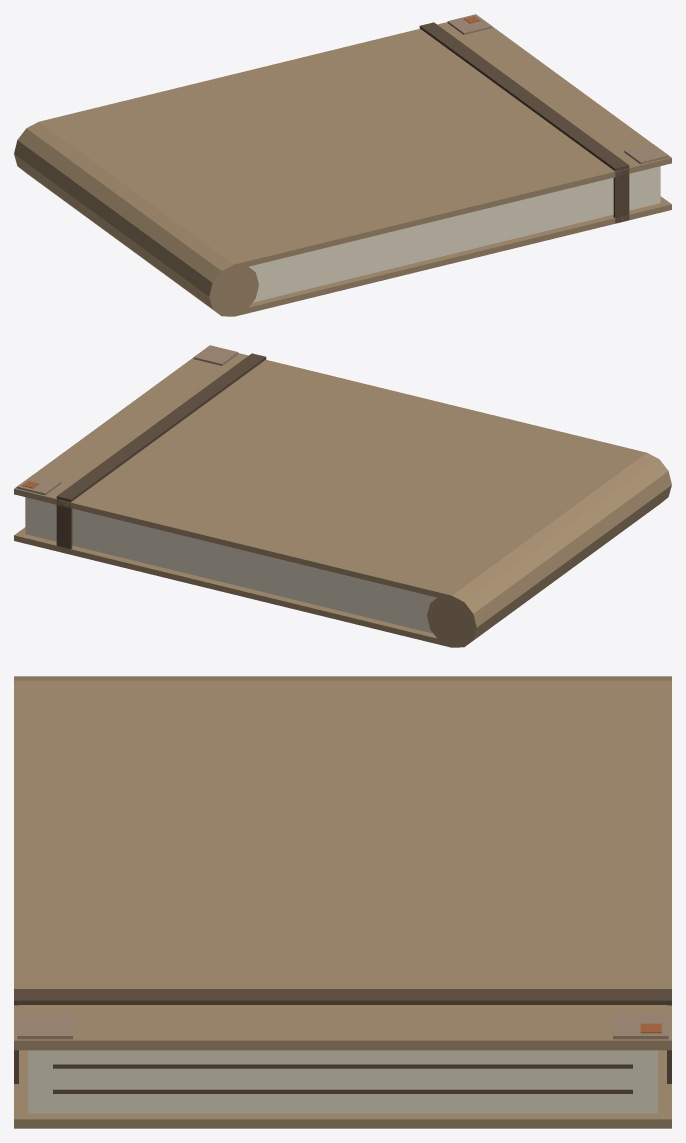
File: maintenance_logbook_saltflat.glb
The picture shows the model from 3 angles, top to bottom: view 1: azimuth 30°, elevation 25°; view 2: azimuth 150°, elevation 25°; view 3: azimuth 270°, elevation 25°; orthographic projection. The views are drawn at different scales.
Parts seen in each view (by area): view 1: Logbook_Body; view 2: Logbook_Body; view 3: Logbook_Body.
Boxes of the visible parts, x1,y1,x2,y2 form: Logbook_Body: [14, 14, 671, 316]; Logbook_Body: [14, 345, 671, 647]; Logbook_Body: [14, 676, 671, 1128].
Bounding box in the file's own units: 0.26 × 0.0296 × 0.19.
